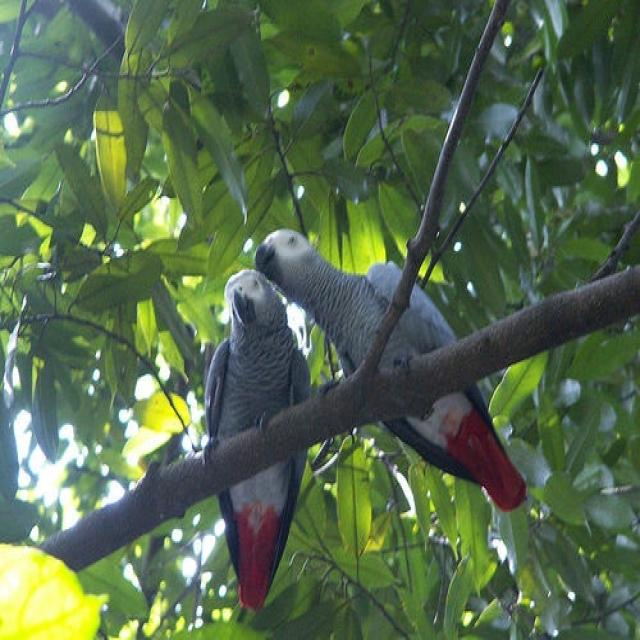bird: (253, 228, 528, 514), (204, 266, 314, 610)
